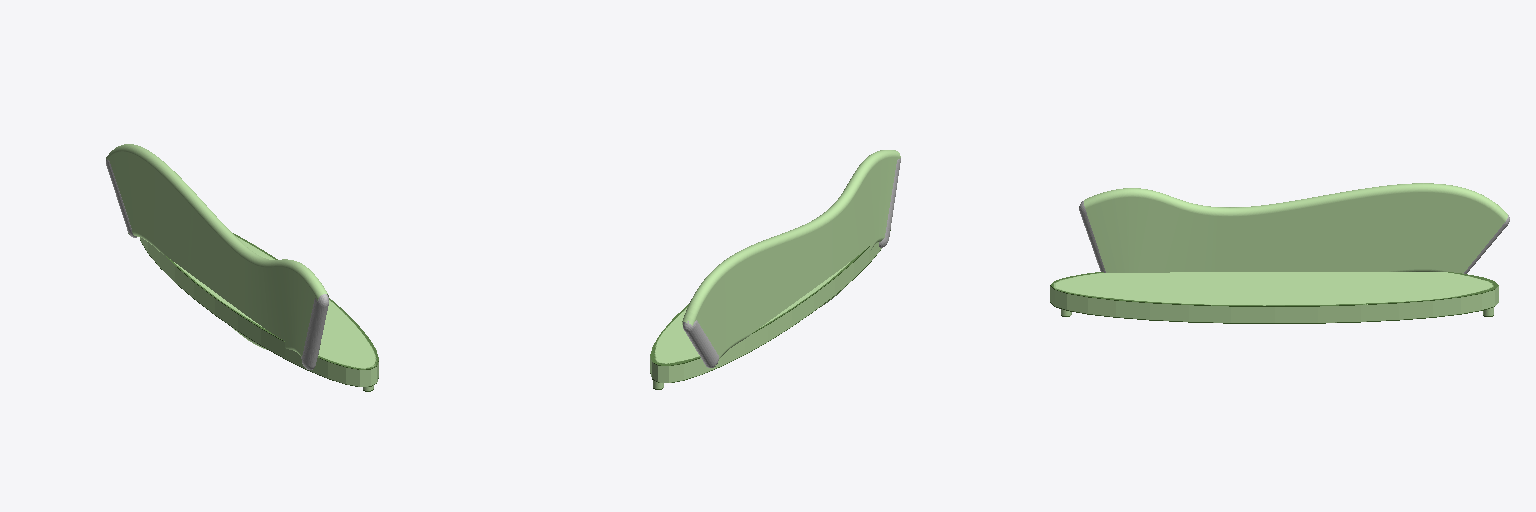
The picture shows the model from 3 angles: view 1: azimuth 30°, elevation 25°; view 2: azimuth 150°, elevation 25°; view 3: azimuth 270°, elevation 25°; orthographic projection.
Parts seen in each view (by area): view 1: Curva_Bézier.001, Cilindro.001, Mbola; view 2: Curva_Bézier.001, Cilindro.001, Mbola; view 3: Curva_Bézier.001, Cilindro.001, Mbola.
Boxes of the visible parts, x1=… form: Curva_Bézier.001: x1=106, y1=144, x2=328, y2=356; Cilindro.001: x1=140, y1=233, x2=378, y2=386; Mbola: x1=106, y1=159, x2=328, y2=369; Curva_Bézier.001: x1=682, y1=150, x2=900, y2=366; Cilindro.001: x1=650, y1=230, x2=890, y2=382; Mbola: x1=683, y1=158, x2=900, y2=367; Curva_Bézier.001: x1=1084, y1=183, x2=1507, y2=273; Cilindro.001: x1=1050, y1=272, x2=1498, y2=323; Mbola: x1=1079, y1=201, x2=1509, y2=273.
Bounding box in the file's own units: 0.4599 × 0.5679 × 2.09.
Materials: 5 (3 with a texture image).